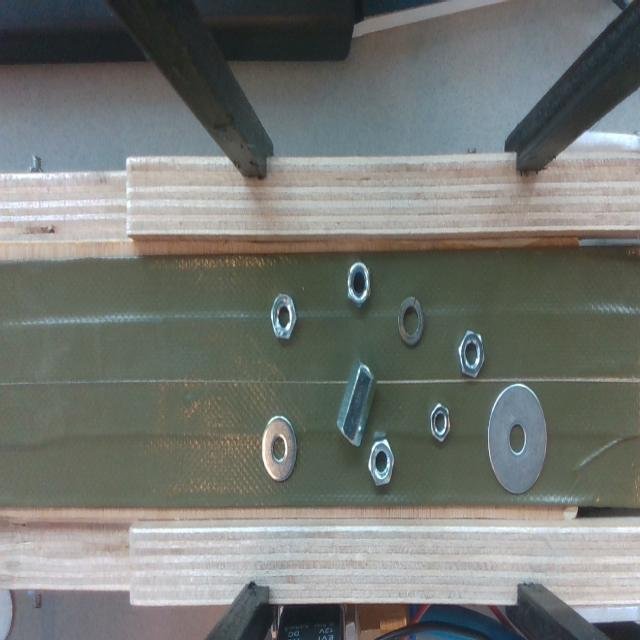Nut: (336, 359, 376, 446), (369, 438, 394, 485), (459, 331, 484, 377), (270, 295, 296, 339), (348, 262, 370, 307), (430, 402, 450, 442)
washer: (488, 383, 546, 494), (262, 416, 296, 481), (399, 297, 424, 345)
